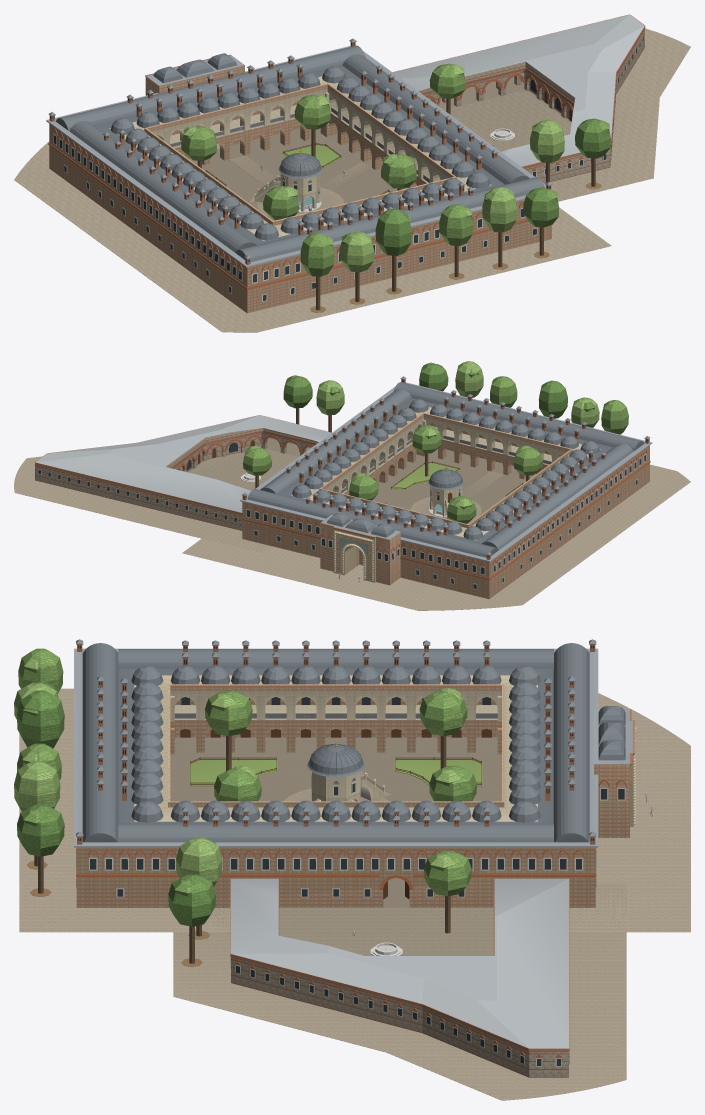
Rendered from koza-han_v13.glb.
3 views of the same model, one above another, from view 1: azimuth 30°, elevation 25°; view 2: azimuth 150°, elevation 25°; view 3: azimuth 270°, elevation 25° (orthographic). The views are drawn at different scales.
Parts seen in each view (by area): view 1: Cevre_Doseme, Cati, Govde_Dis, Ic_Koza, Kubbe_Avlu, Avlu_Zemin, Avlu_Revak, Baca, Avlu_Agac, Cephe, Portal, Cevre_Agac_03 (+11 smaller); view 2: Cevre_Doseme, Ic_Koza, Cati, Govde_Dis, Kubbe_Avlu, Avlu_Zemin, Avlu_Revak, Portal, Baca, Avlu_Agac, Cephe, Cevre_Agac_03 (+11 smaller); view 3: Cevre_Doseme, Cati, Ic_Koza, Govde_Dis, Avlu_Zemin, Kubbe_Avlu, Avlu_Revak, Avlu_Agac, Baca, Cephe, Portal, Avlu_Cim (+11 smaller).
Part boxes in pixels (bbox=[...]): Cevre_Doseme: bbox=[14, 28, 690, 332]; Cati: bbox=[46, 45, 553, 267]; Govde_Dis: bbox=[49, 65, 551, 313]; Ic_Koza: bbox=[392, 14, 645, 183]; Kubbe_Avlu: bbox=[110, 66, 490, 240]; Avlu_Zemin: bbox=[190, 72, 571, 220]; Avlu_Revak: bbox=[109, 76, 491, 240]; Baca: bbox=[48, 38, 552, 264]; Avlu_Agac: bbox=[181, 63, 465, 220]; Cephe: bbox=[53, 90, 537, 301]; Portal: bbox=[145, 53, 244, 95]; Cevre_Agac_03: bbox=[375, 208, 411, 294]; Cevre_Doseme: bbox=[14, 456, 690, 610]; Ic_Koza: bbox=[35, 415, 331, 530]; Cati: bbox=[240, 382, 652, 561]; Govde_Dis: bbox=[242, 398, 649, 599]; Kubbe_Avlu: bbox=[292, 399, 599, 539]; Avlu_Zemin: bbox=[187, 438, 535, 524]; Avlu_Revak: bbox=[291, 407, 600, 540]; Portal: bbox=[320, 513, 400, 585]; Baca: bbox=[242, 376, 650, 559]; Avlu_Agac: bbox=[243, 425, 542, 523]; Cephe: bbox=[245, 449, 646, 589]; Cevre_Agac_03: bbox=[538, 380, 567, 418]; Cevre_Doseme: bbox=[19, 688, 690, 1100]; Cati: bbox=[74, 643, 598, 847]; Ic_Koza: bbox=[230, 878, 569, 1077]; Govde_Dis: bbox=[76, 668, 595, 907]; Avlu_Zemin: bbox=[170, 737, 501, 955]; Kubbe_Avlu: bbox=[131, 665, 540, 822]; Avlu_Revak: bbox=[134, 675, 537, 821]; Avlu_Agac: bbox=[205, 687, 476, 933]; Baca: bbox=[76, 639, 596, 844]; Cephe: bbox=[76, 771, 630, 897]; Portal: bbox=[594, 706, 635, 837]; Avlu_Cim: bbox=[189, 757, 482, 786].
Bounding box in the file's own units: 135 × 16.42 × 93.97.
Materials: 40 (20 with a texture image).
